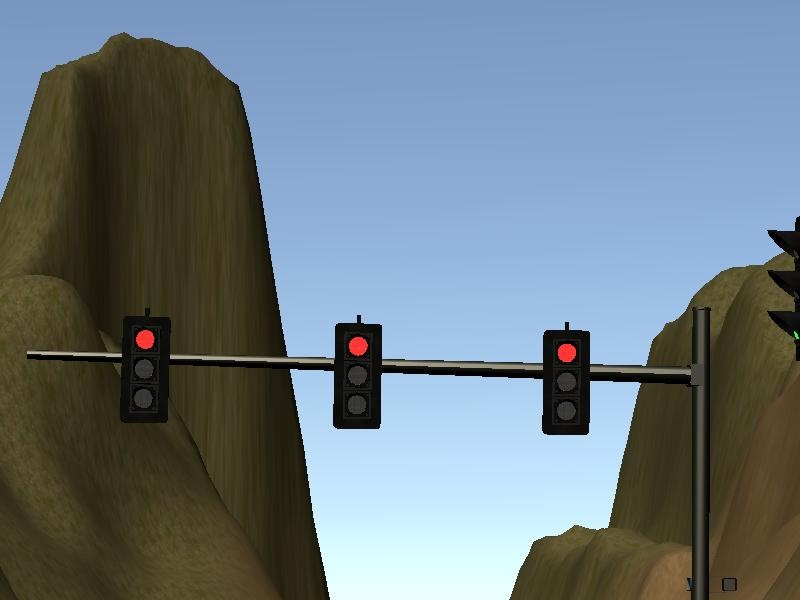RED: (541, 329, 590, 435), (333, 322, 382, 428), (120, 312, 169, 418)
